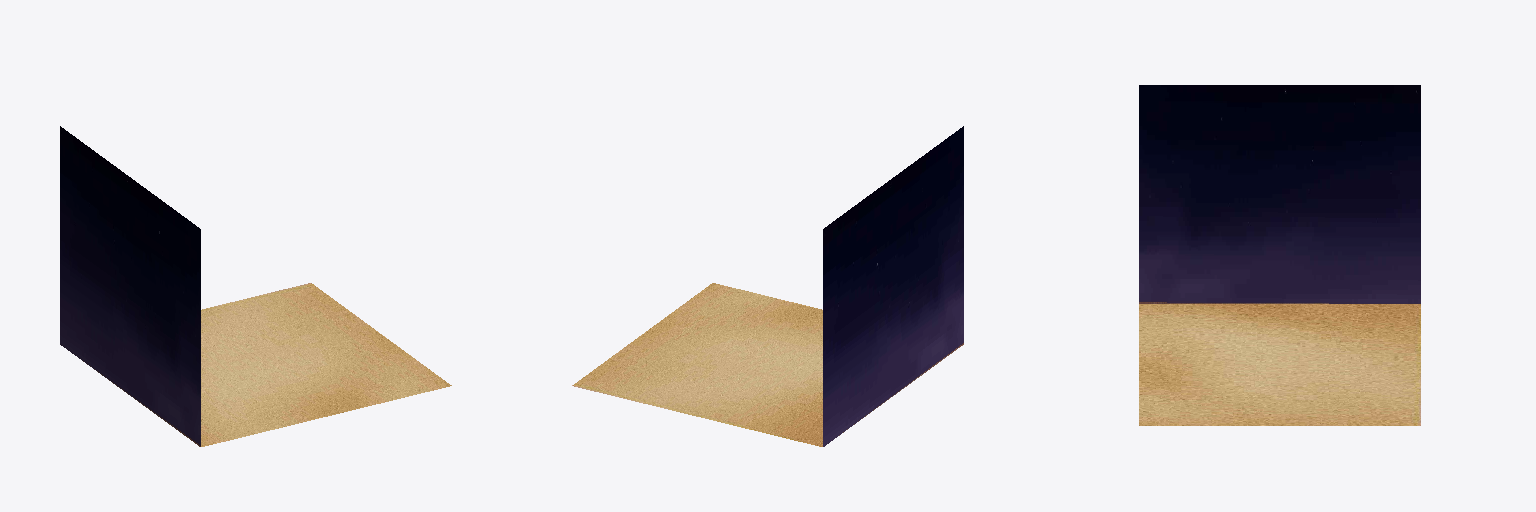
3 renders of one model, left to right at view 1: azimuth 30°, elevation 25°; view 2: azimuth 150°, elevation 25°; view 3: azimuth 270°, elevation 25°, orthographic.
Parts seen in each view (by area): view 1: Plane; view 2: Plane; view 3: Plane.
Part boxes in pixels (x1,y1,x2,y2): Plane: (60, 126, 451, 446); Plane: (572, 126, 963, 446); Plane: (1139, 85, 1420, 425).
Size of the model in its own units: 23 by 19.12 by 22.36.
1 materials, 1 textured.